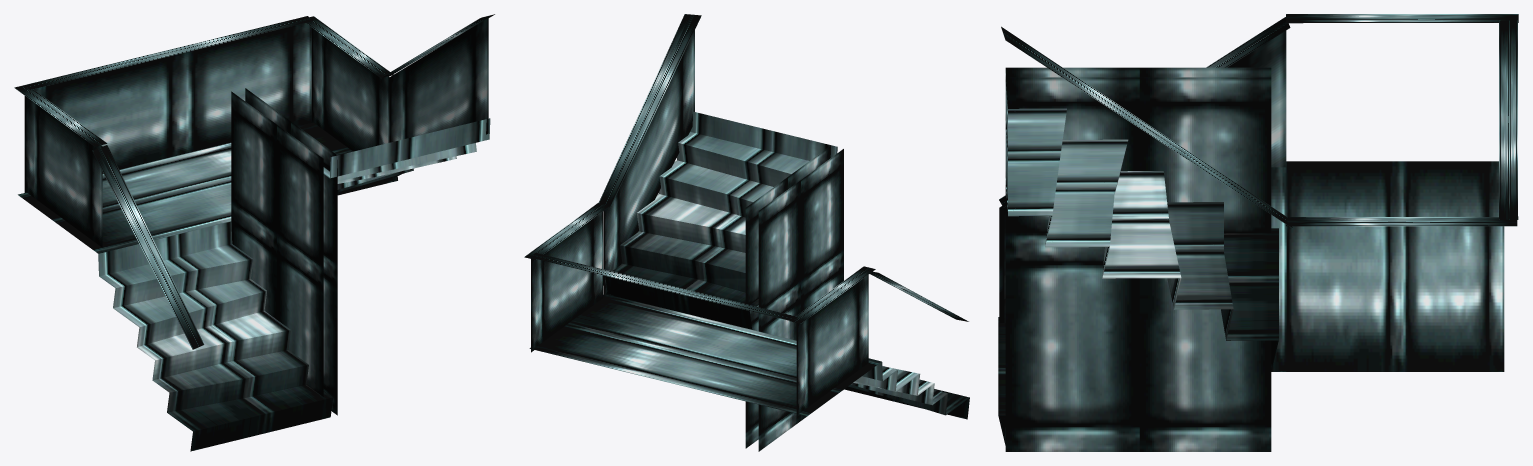
File: TreppeAußen [Rohr]_782.glb
3 views of the same model, side by side, from view 1: azimuth 30°, elevation 25°; view 2: azimuth 150°, elevation 25°; view 3: azimuth 270°, elevation 25° (orthographic). The views are drawn at different scales.
Visible parts, largest first — view 1: pPlaneShape18, pPlaneShape5, pPlaneShape11, pPlaneShape17, pPlaneShape2, pPlaneShape4, pPlaneShape3, pPlaneShape16, pPlaneShape12, pPlaneShape6, pPlaneShape8, pPlaneShape9 (+2 smaller); view 2: pPlaneShape16, pPlaneShape17, pPlaneShape11, pPlaneShape2, pPlaneShape4, pPlaneShape3, pPlaneShape18, pPlaneShape7, pPlaneShape12, pPlaneShape8, pPlaneShape9, pPlaneShape10 (+1 smaller); view 3: pPlaneShape12, pPlaneShape17, pPlaneShape16, pPlaneShape8, pPlaneShape1, pPlaneShape7, pPlaneShape11, pPlaneShape10, pPlaneShape9, pPlaneShape6, pPlaneShape18.
Boxes of the visible parts, box(x1,y1,x2,y2) form: pPlaneShape18: box(98, 221, 333, 451); pPlaneShape5: box(34, 23, 311, 173); pPlaneShape11: box(231, 91, 323, 396); pPlaneShape17: box(18, 122, 352, 253); pPlaneShape2: box(389, 18, 488, 177); pPlaneShape4: box(24, 96, 102, 247); pPlaneShape3: box(311, 28, 389, 151); pPlaneShape16: box(323, 118, 490, 195); pPlaneShape12: box(245, 88, 337, 415); pPlaneShape6: box(92, 145, 204, 349); pPlaneShape8: box(24, 16, 313, 89); pPlaneShape9: box(14, 85, 107, 146); pPlaneShape16: box(603, 111, 837, 329); pPlaneShape17: box(529, 294, 881, 416); pPlaneShape11: box(758, 149, 843, 451); pPlaneShape2: box(603, 30, 694, 297); pPlaneShape4: box(796, 275, 868, 416); pPlaneShape3: box(531, 211, 602, 352); pPlaneShape18: box(844, 362, 969, 419); pPlaneShape7: box(598, 14, 701, 207); pPlaneShape12: box(745, 145, 831, 448); pPlaneShape8: box(529, 253, 797, 321); pPlaneShape9: box(789, 266, 875, 323); pPlaneShape10: box(524, 203, 610, 259); pPlaneShape12: box(1005, 77, 1271, 451); pPlaneShape17: box(1271, 161, 1504, 371); pPlaneShape16: box(1005, 73, 1278, 371); pPlaneShape8: box(1499, 20, 1518, 219); pPlaneShape1: box(999, 30, 1286, 322); pPlaneShape7: box(1001, 26, 1292, 228); pPlaneShape11: box(1005, 67, 1271, 77); pPlaneShape10: box(1286, 217, 1517, 226); pPlaneShape9: box(1286, 14, 1518, 23); pPlaneShape6: box(999, 17, 1290, 207); pPlaneShape18: box(998, 317, 1005, 445).
Bounding box in the file's own units: 0.4797 × 0.5464 × 0.4899.
15 materials, 15 textured.
